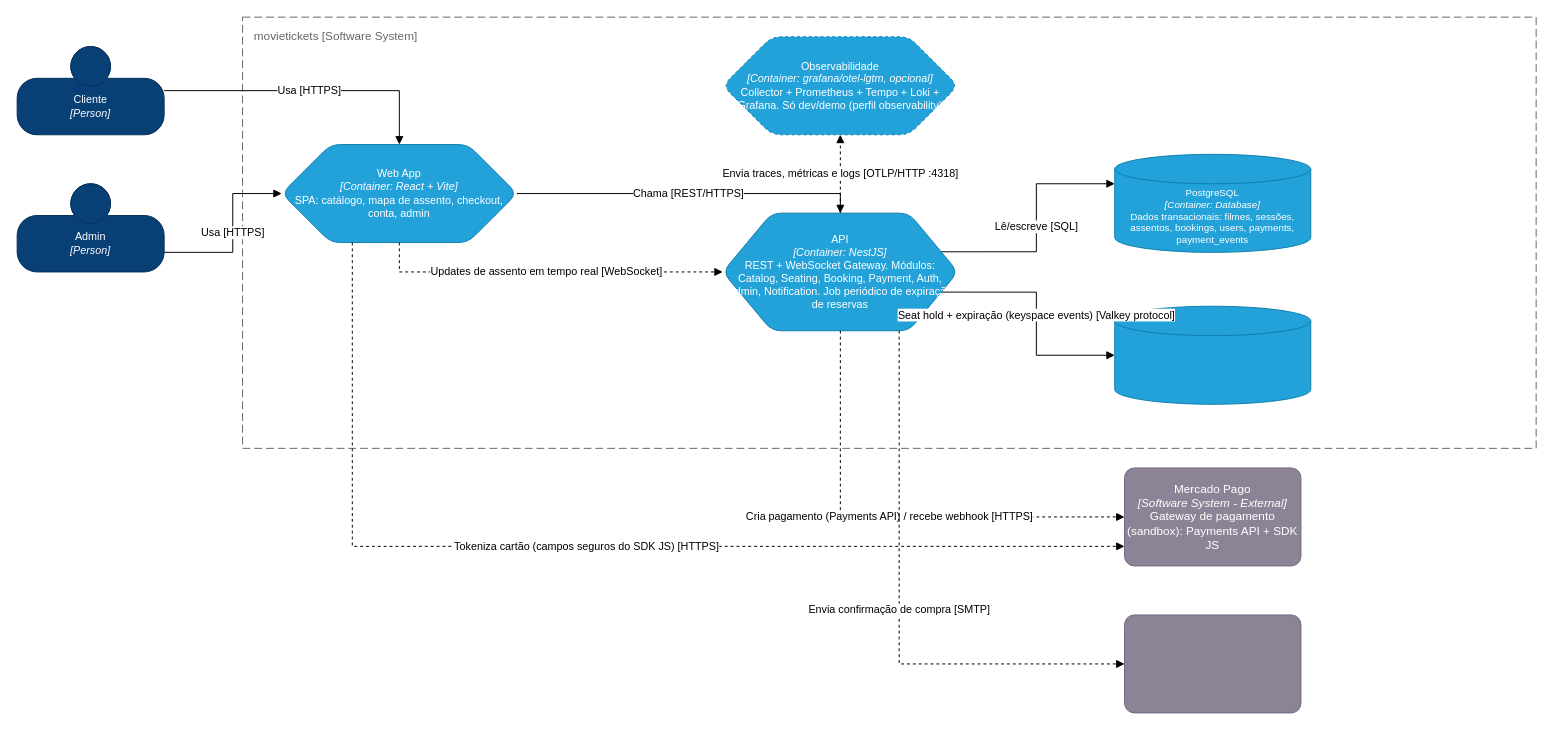
Some shapes in this 1553 by 730 pixel diagram are drawn without their labels. Each missing label, with the centre of its shape:
Servidor de e-mail [Software System - External] SMTP (Mailpit em dev): pixel 1212 663
Valkey [Container: Database] Seat hold (TTL lock) + holds de convidado: pixel 1212 354
